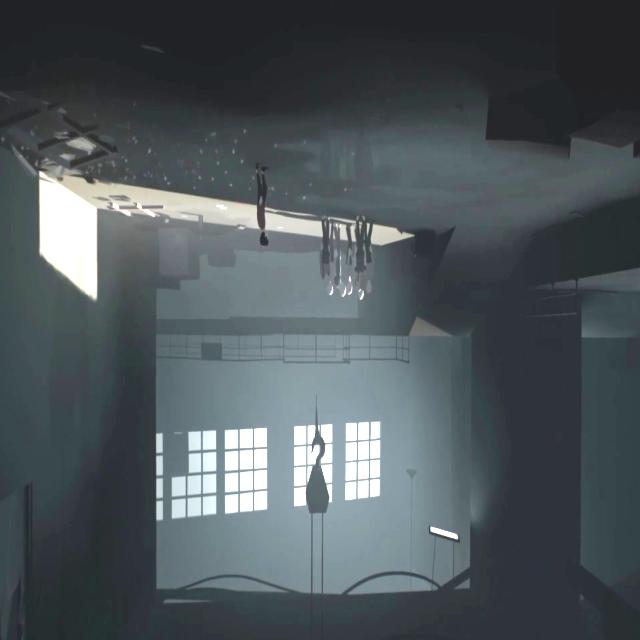boy: (255, 165, 272, 249)
zombie: (334, 222, 346, 298), (354, 215, 366, 288), (320, 216, 330, 286), (346, 222, 353, 296), (367, 220, 374, 294), (358, 288, 365, 300), (328, 286, 333, 297)
